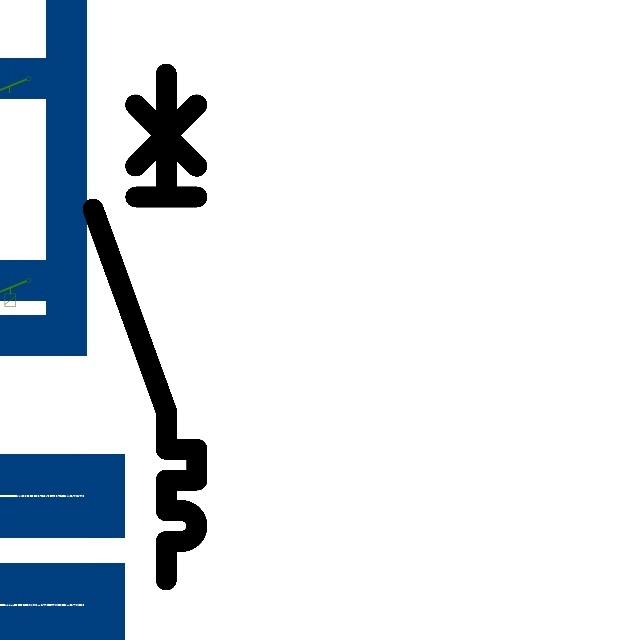interruptor_termomagnetico: (80, 61, 210, 593)
